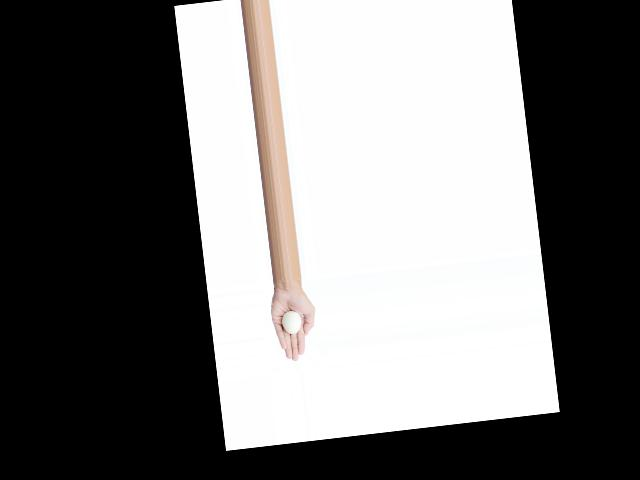egg: (281, 310, 302, 336)
